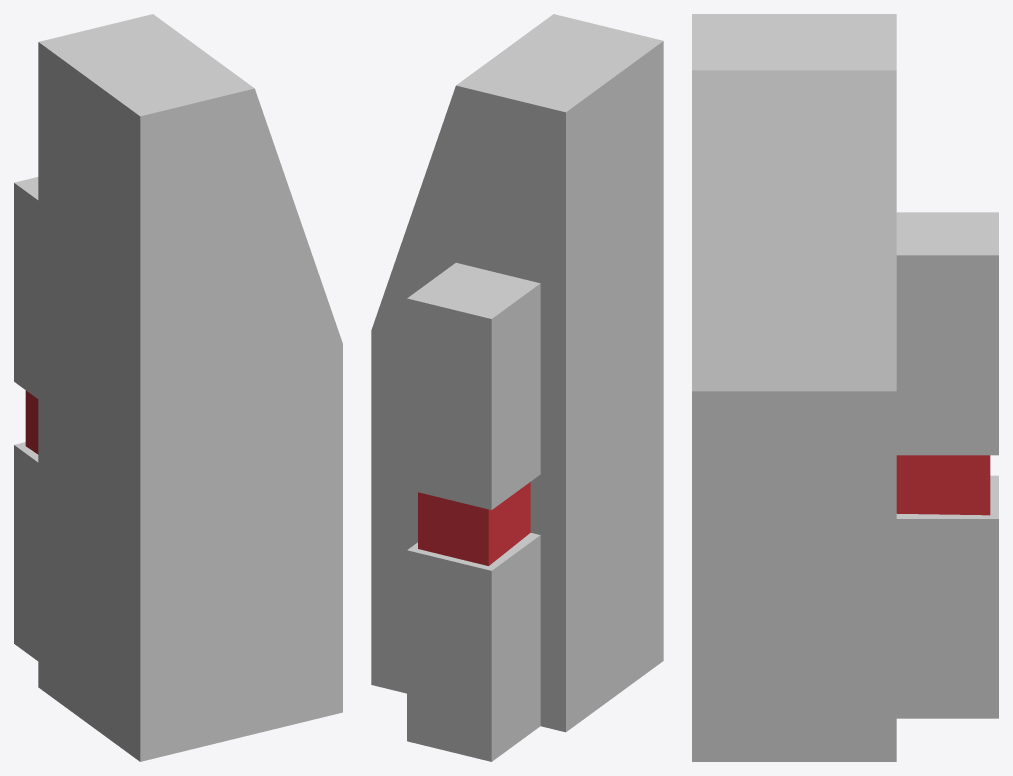
3 renders of one model, left to right at view 1: azimuth 30°, elevation 25°; view 2: azimuth 150°, elevation 25°; view 3: azimuth 270°, elevation 25°, orthographic. The views are drawn at different scales.
Parts seen in each view (by area): view 1: Cube; view 2: Cube; view 3: Cube.
Part boxes in pixels (x1,y1,x2,y2): Cube: (14,14,342,761); Cube: (371,14,663,761); Cube: (692,14,998,761).
Size of the model in its own units: 230 by 700 by 300.
